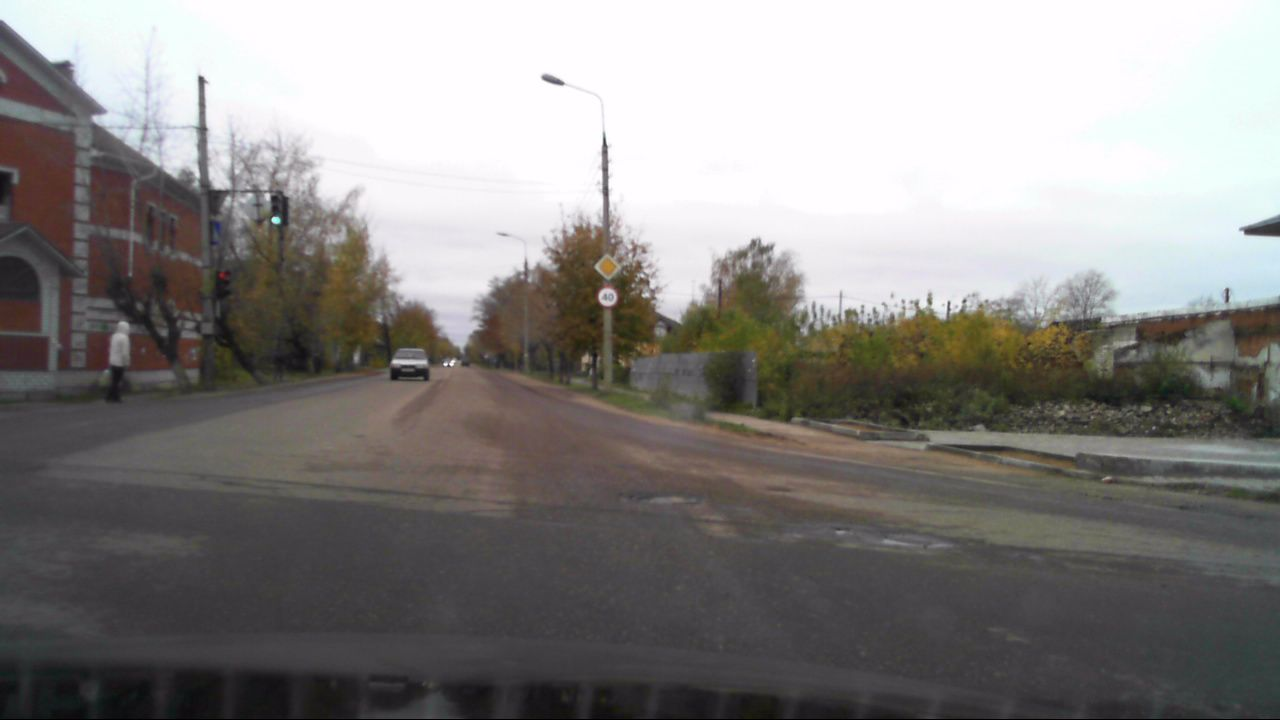speed_warning_40: (596, 285, 619, 308)
